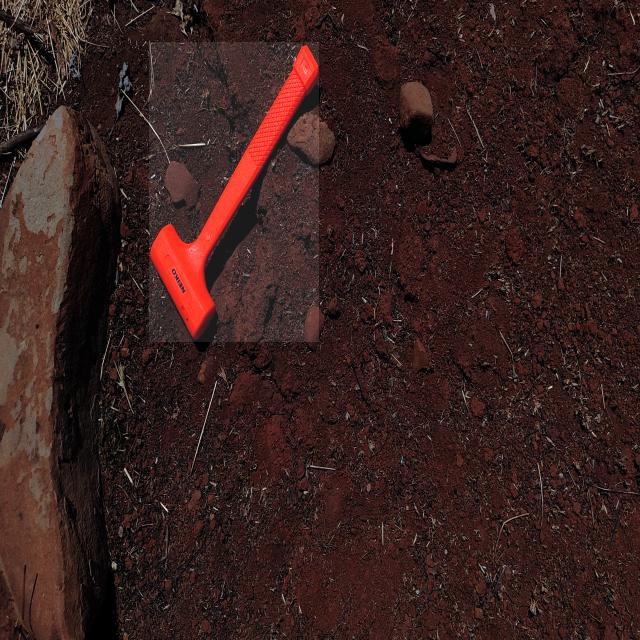Orange_hammer: (149, 42, 319, 342)
